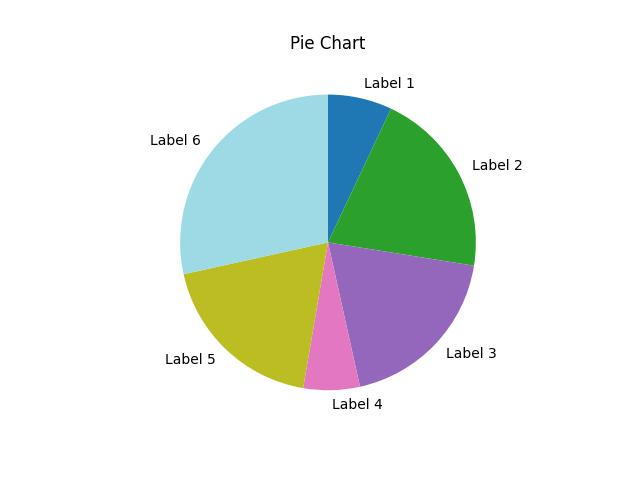sector: (179, 91, 329, 276), (328, 107, 477, 265), (328, 241, 475, 386), (182, 239, 325, 387), (327, 93, 389, 242), (305, 243, 361, 391)
